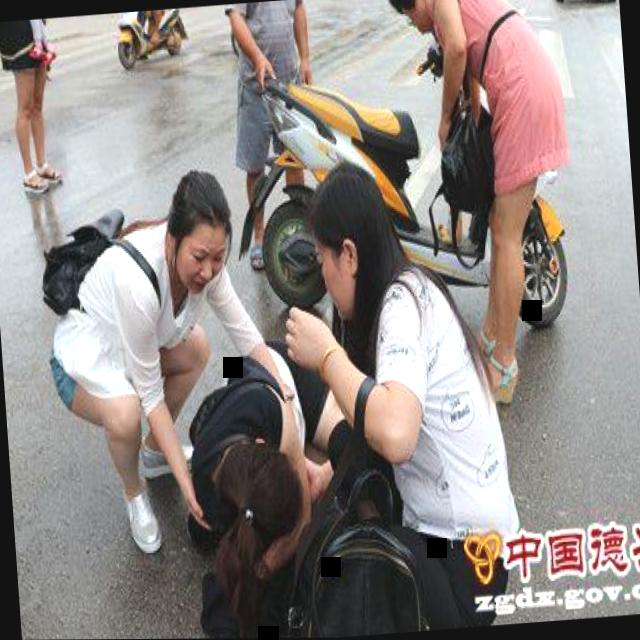Fall-Detected: (160, 296, 354, 609)
